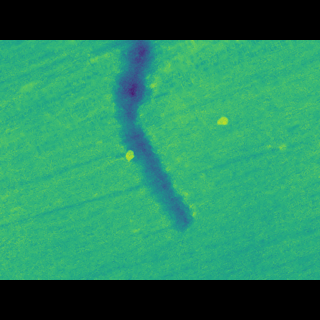Loch: (82, 69, 203, 214)
